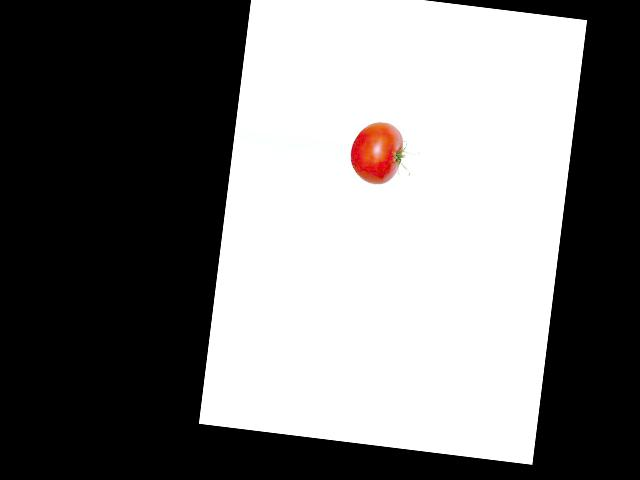tomato: (347, 119, 405, 186)
